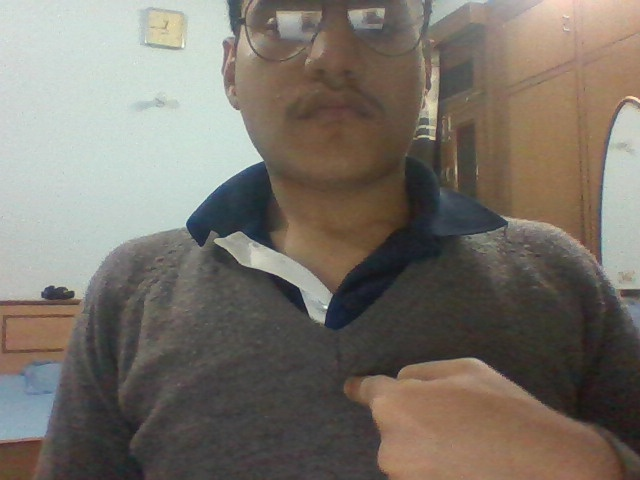I: (307, 367, 607, 480)
